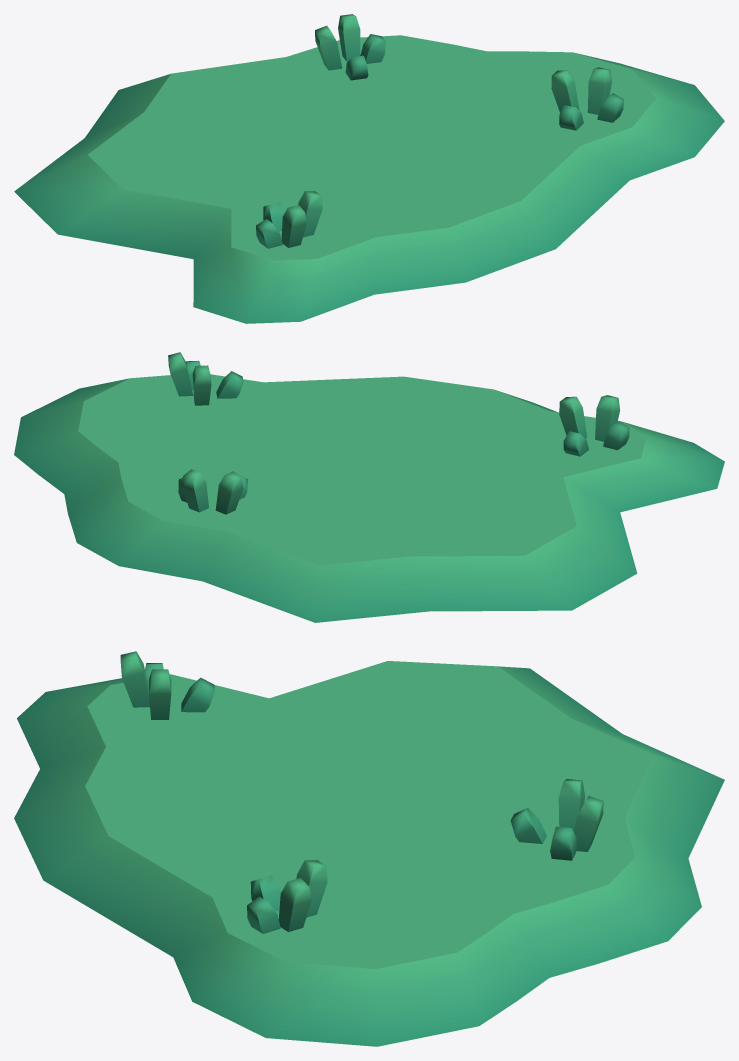
File: kenney-pirate-patch-grass-foliage.glb
The picture shows the model from 3 angles, top to bottom: view 1: azimuth 30°, elevation 25°; view 2: azimuth 150°, elevation 25°; view 3: azimuth 270°, elevation 25°; orthographic projection. The views are drawn at different scales.
Visible parts, largest first — view 1: patch-grass-foliage; view 2: patch-grass-foliage; view 3: patch-grass-foliage.
Part boxes in pixels (bbox=[...]): patch-grass-foliage: bbox=[14, 14, 724, 323]; patch-grass-foliage: bbox=[14, 352, 724, 622]; patch-grass-foliage: bbox=[14, 651, 724, 1046].
Size of the model in its own units: 5.27 by 0.5639 by 4.11.
Materials: 1 (1 with a texture image).
